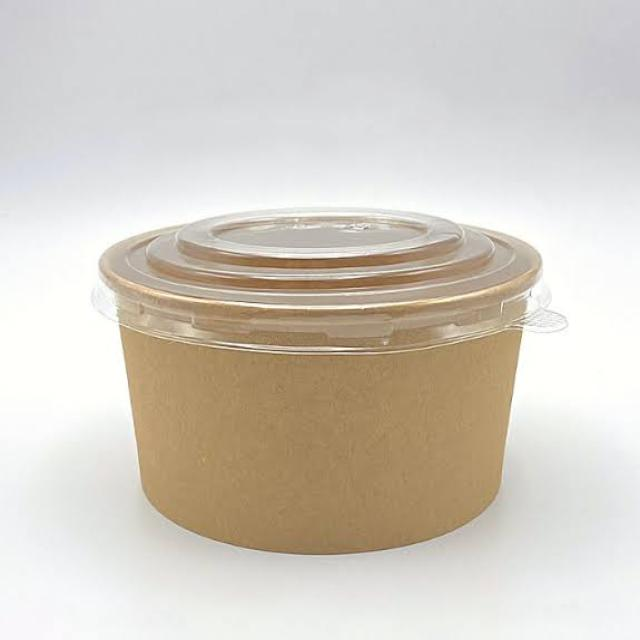paper cup: (57, 182, 574, 555)
